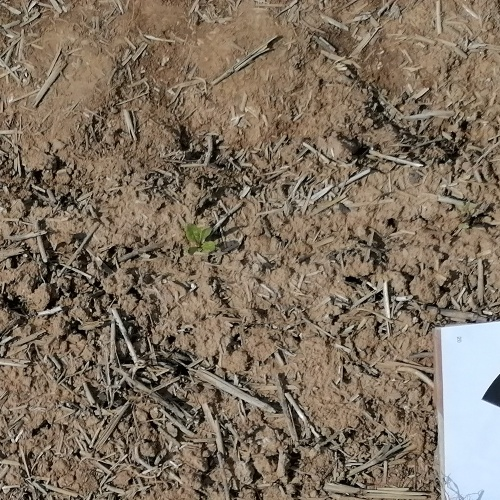beet: (185, 222, 218, 255)
